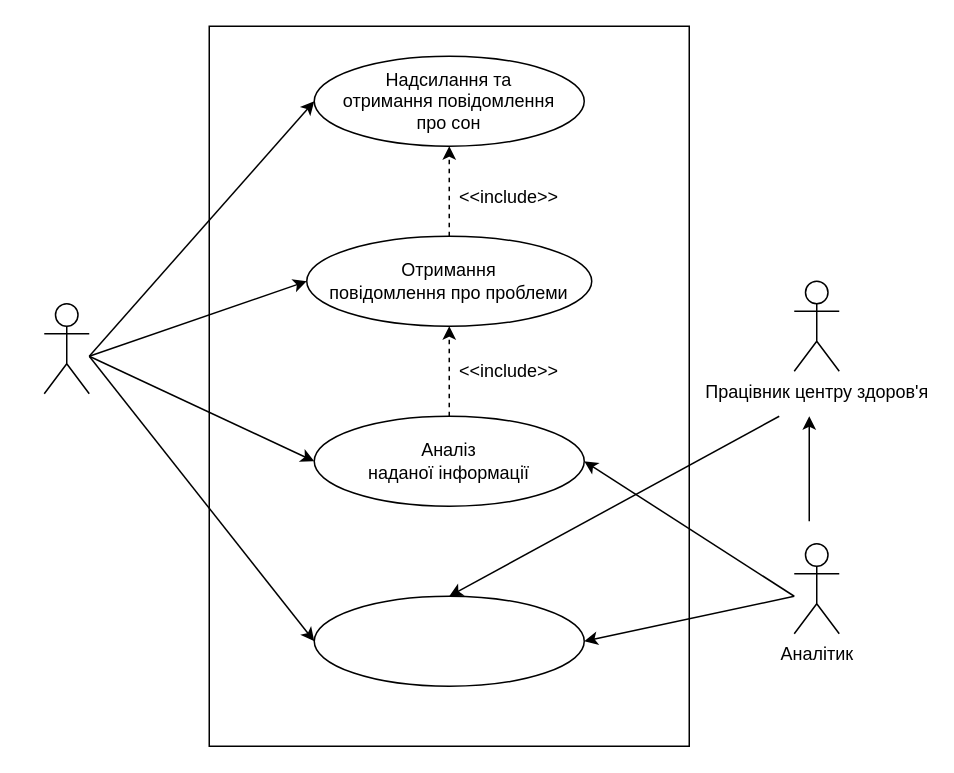
This 954x773 diagram has some shape labels left out. The centre of each missing label's shape, as x and y in pixels:
Надання питань та відповідей на них: point 448,640
Споживач: point 66,348
